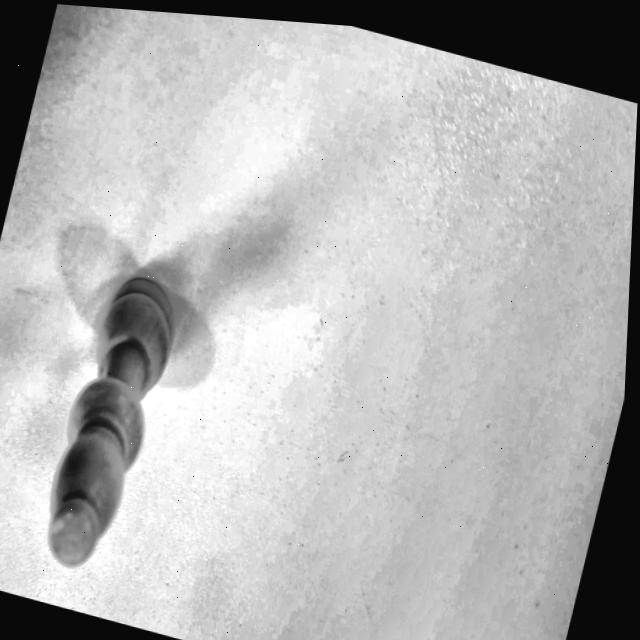white-bishop: (0, 146, 240, 633)
